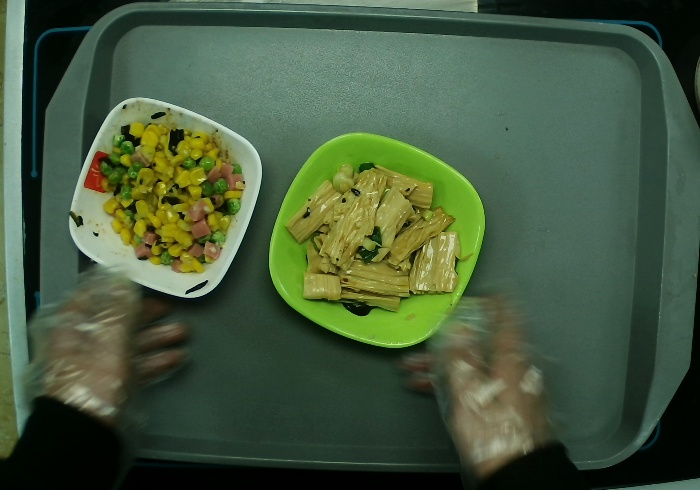SHKJ-Bai_Se_Xiao_Fang_Die: (69, 96, 265, 301)
SHKJ-Lv_Se_Cai_Die: (268, 132, 486, 350)
